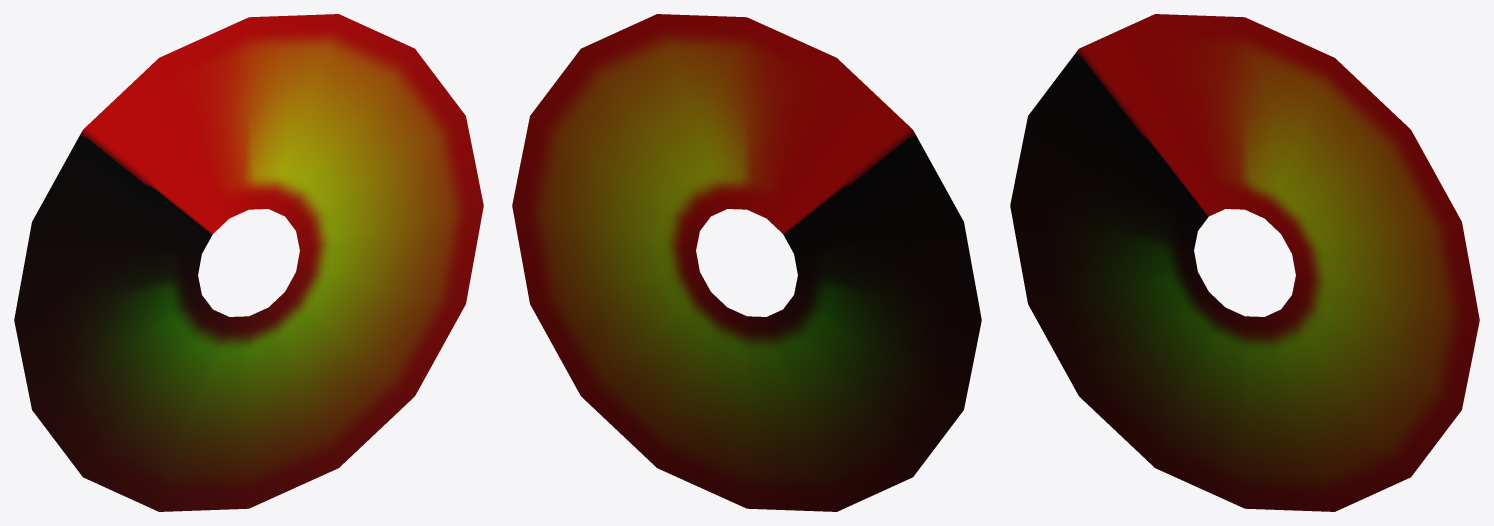
File: SwordSlash_231204.fbx
3 views of the same model, side by side, from view 1: azimuth 30°, elevation 25°; view 2: azimuth 150°, elevation 25°; view 3: azimuth 330°, elevation 25° (orthographic).
Visible parts, largest first — view 1: Sword; view 2: Sword; view 3: Sword.
Part boxes in pixels (left/top/right/bottom): Sword: left=14, top=14, right=483, bottom=511; Sword: left=512, top=14, right=981, bottom=511; Sword: left=1010, top=14, right=1479, bottom=511.
Bounding box in the file's own units: 8 × 8 × 2.38e-07.
